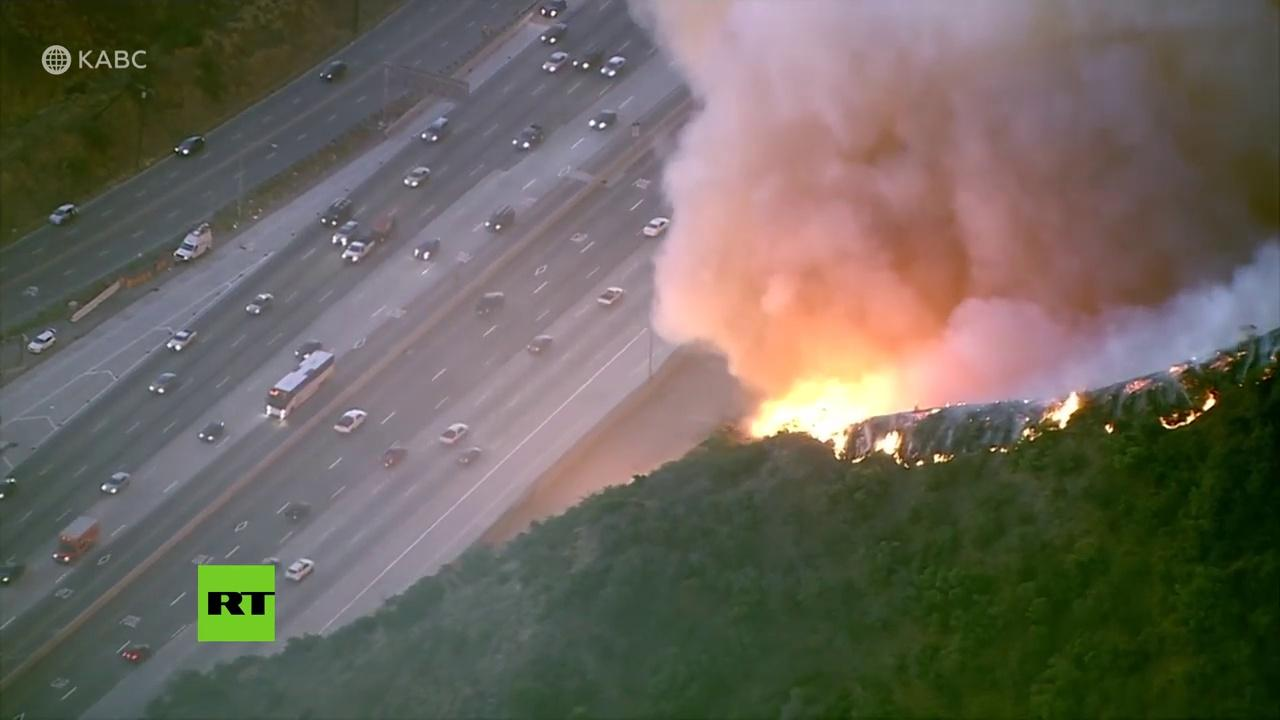Fire: (750, 372, 908, 468), (1018, 390, 1084, 452), (1159, 393, 1218, 432)
